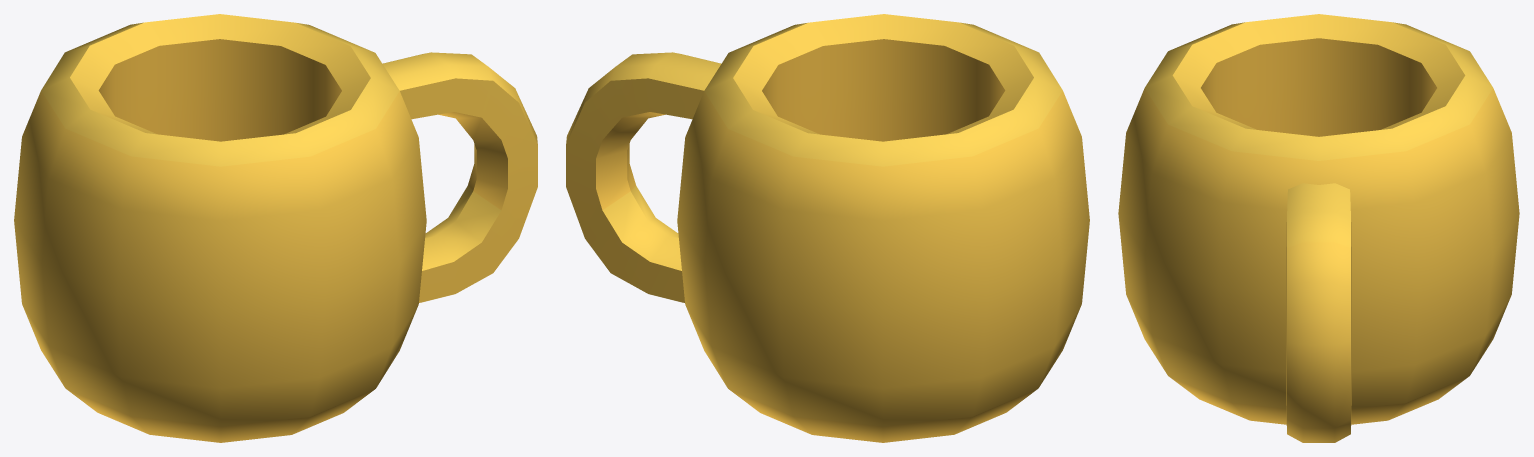
The model's file is mug-a-yellow.glb.
The picture shows the model from 3 angles, left to right: view 1: azimuth 30°, elevation 25°; view 2: azimuth 150°, elevation 25°; view 3: azimuth 270°, elevation 25°; orthographic projection. The views are drawn at different scales.
Parts seen in each view (by area): view 1: mug_A_yellow; view 2: mug_A_yellow; view 3: mug_A_yellow.
Part boxes in pixels (x1,y1,x2,y2): mug_A_yellow: (14, 14, 537, 442); mug_A_yellow: (566, 14, 1089, 442); mug_A_yellow: (1118, 14, 1519, 442).
Bounding box in the file's own units: 0.5851 × 0.35 × 0.4315.
Materials: 1 (1 with a texture image).
